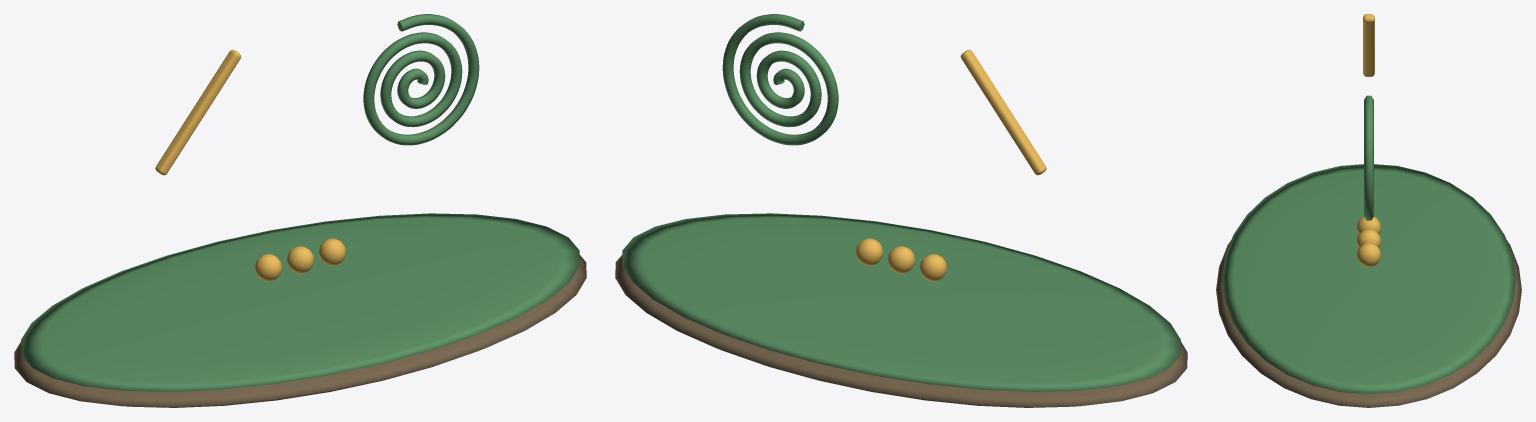
Rendered from complete-first-few-question-count.glb.
3 renders of one model, left to right at view 1: azimuth 30°, elevation 25°; view 2: azimuth 150°, elevation 25°; view 3: azimuth 270°, elevation 25°, orthographic. The views are drawn at different scales.
Visible parts, largest first — view 1: complete-first-few-question-count_surface_01, complete-first-few-question-count_surface_00, complete-first-few-question-count_surface_02; view 2: complete-first-few-question-count_surface_01, complete-first-few-question-count_surface_00, complete-first-few-question-count_surface_02; view 3: complete-first-few-question-count_surface_01, complete-first-few-question-count_surface_00, complete-first-few-question-count_surface_02.
Part boxes in pixels (x1,y1,x2,y2): complete-first-few-question-count_surface_01: (21,14,579,391); complete-first-few-question-count_surface_00: (14,255,586,407); complete-first-few-question-count_surface_02: (155,49,345,281); complete-first-few-question-count_surface_01: (622,14,1180,391); complete-first-few-question-count_surface_00: (615,255,1187,407); complete-first-few-question-count_surface_02: (856,49,1046,281); complete-first-few-question-count_surface_01: (1222,95,1515,394); complete-first-few-question-count_surface_00: (1216,240,1521,407); complete-first-few-question-count_surface_02: (1357,14,1380,267).
Size of the model in its own units: 4.56 by 2.36 by 2.5.
